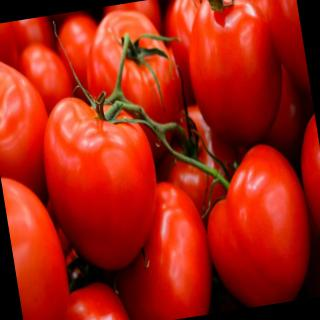Tomat: (33, 79, 174, 284), (194, 138, 320, 312), (78, 3, 197, 169), (178, 1, 293, 151), (101, 176, 220, 320)
